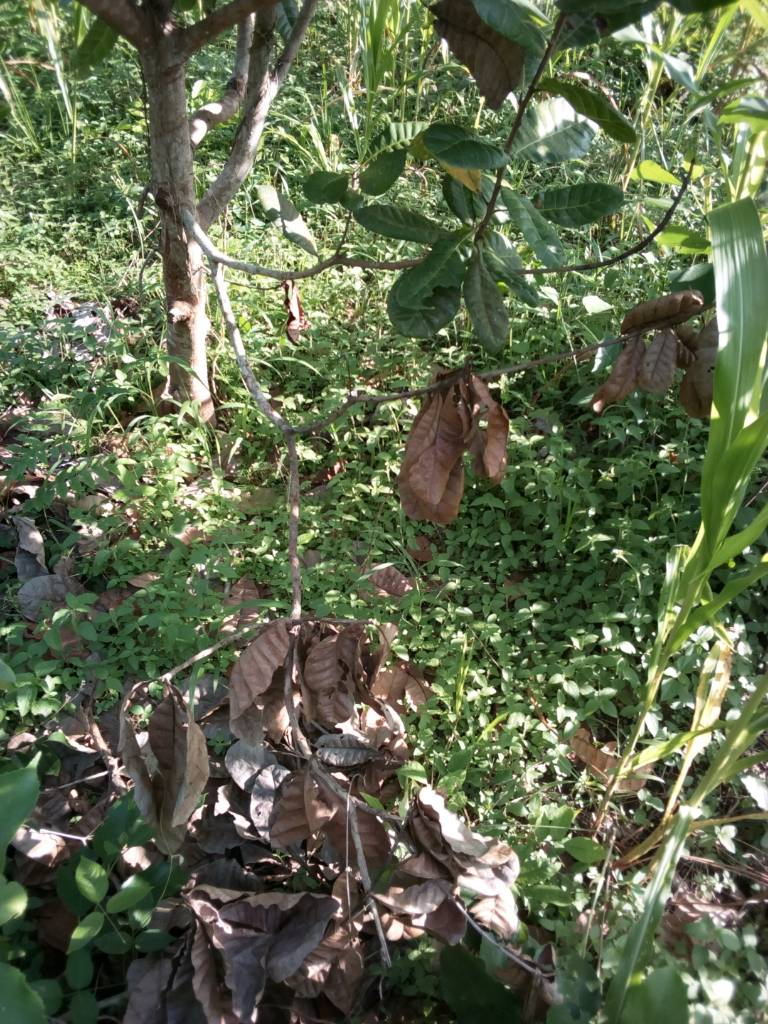Dessèchement des bourgeons: (404, 375, 508, 524), (594, 298, 725, 367)
